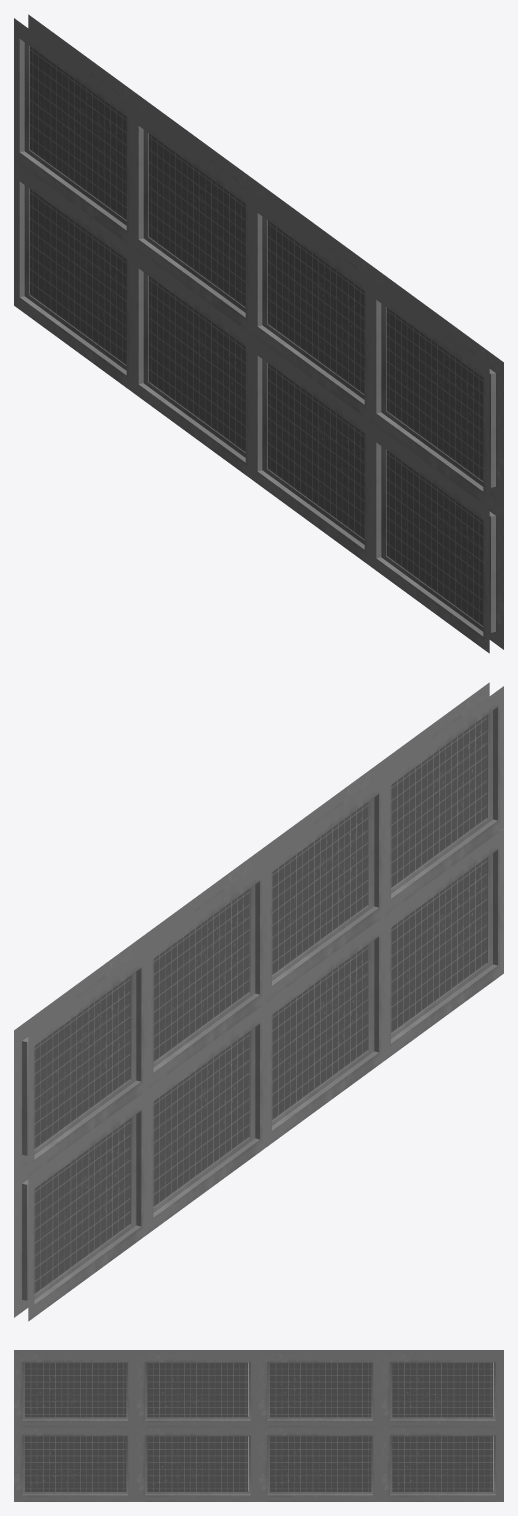
The model's file is WindowFrame.fbx.
3 views of the same model, one above another, from view 1: azimuth 30°, elevation 25°; view 2: azimuth 150°, elevation 25°; view 3: azimuth 270°, elevation 25° (orthographic). The views are drawn at different scales.
Visible parts, largest first — view 1: WindowFrame; view 2: WindowFrame; view 3: WindowFrame.
Part boxes in pixels (x1=…): WindowFrame: x1=14, y1=14, x2=503, y2=653; WindowFrame: x1=14, y1=682, x2=503, y2=1321; WindowFrame: x1=14, y1=1350, x2=503, y2=1501.
Bounding box in the file's own units: 7.18 × 136 × 408.
